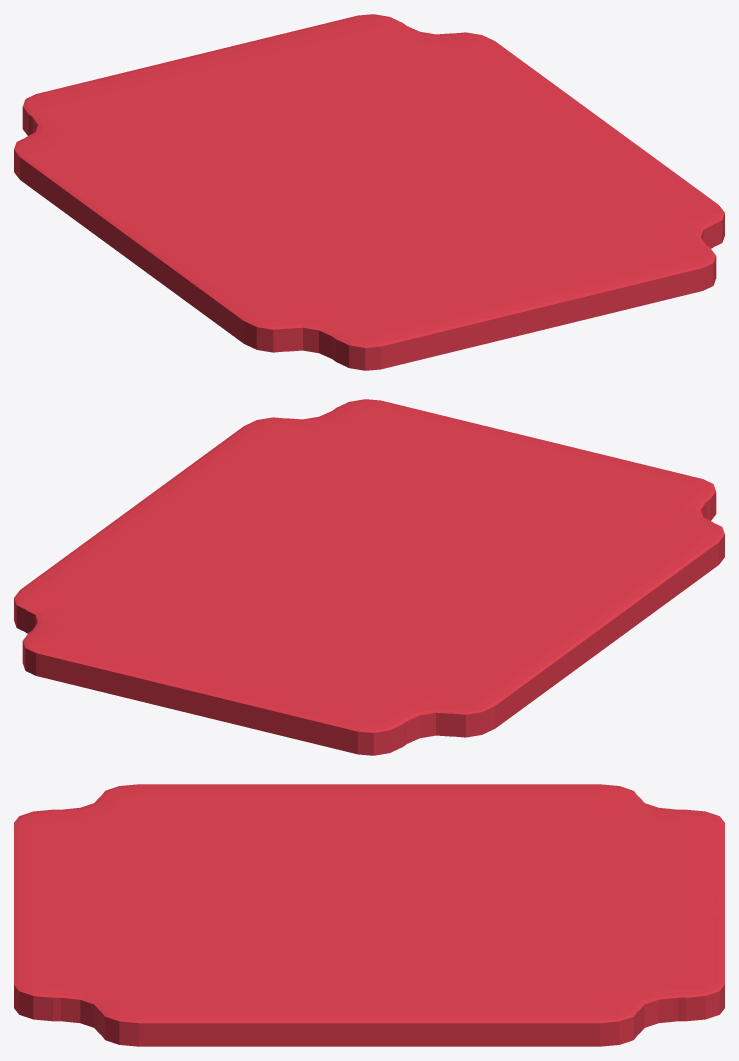
The model's file is ScaffoldingPlatformBoard.fbx.
3 renders of one model, top to bottom at view 1: azimuth 30°, elevation 25°; view 2: azimuth 150°, elevation 25°; view 3: azimuth 270°, elevation 25°, orthographic. The views are drawn at different scales.
Parts seen in each view (by area): view 1: Cube.002; view 2: Cube.002; view 3: Cube.002.
Part boxes in pixels (x1,y1,x2,y2): Cube.002: [14, 14, 724, 370]; Cube.002: [14, 399, 724, 755]; Cube.002: [14, 784, 724, 1046].
Bounding box in the file's own units: 194 × 10 × 244.
